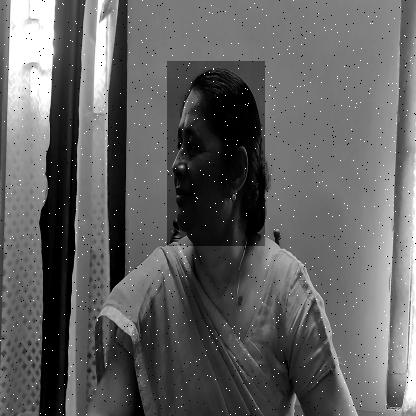Distracted: (167, 61, 265, 246)
